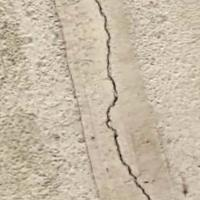crack: (77, 0, 168, 198)
